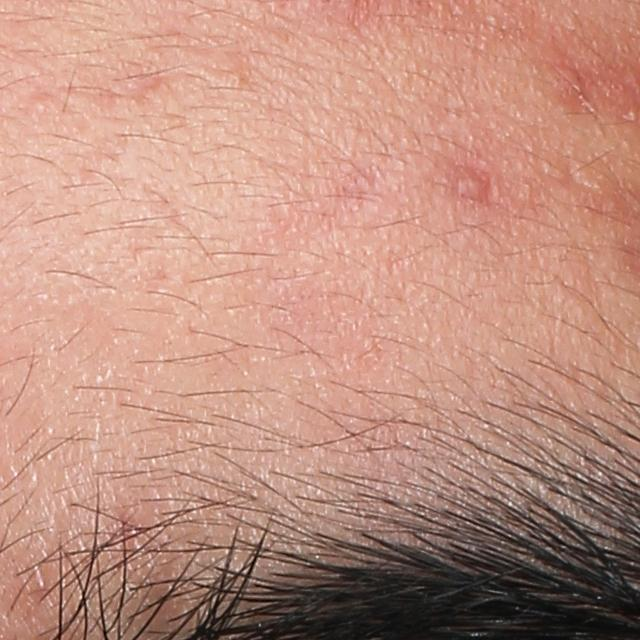comedo: (31, 97, 51, 118)
papule: (464, 171, 500, 206)
